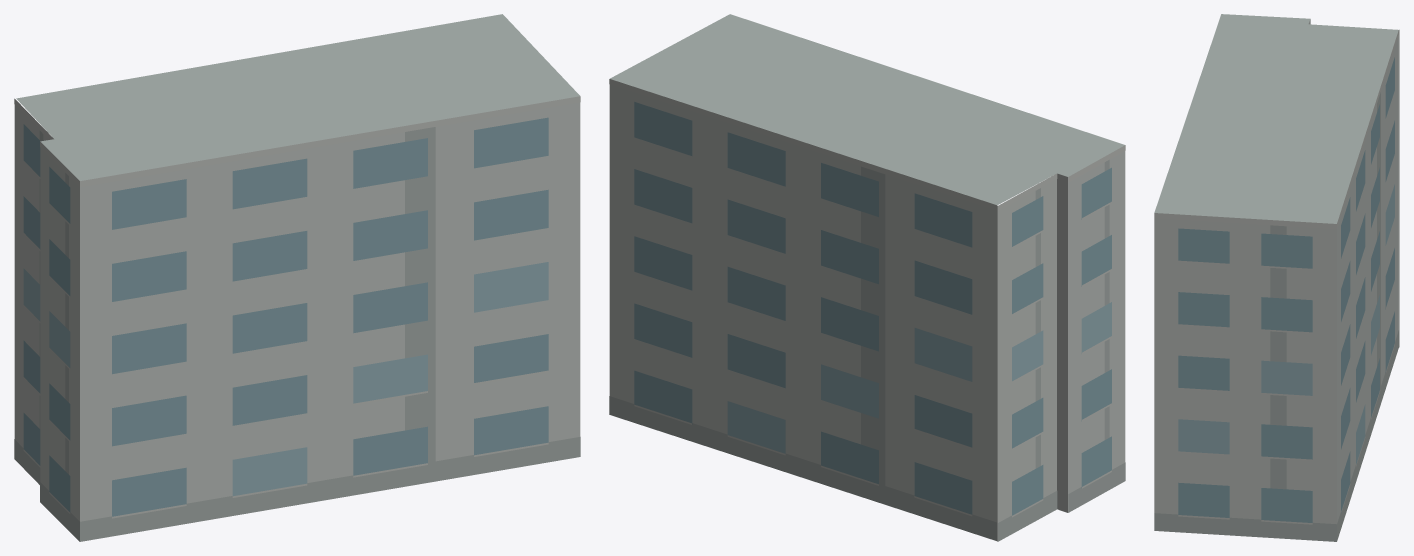
The model's file is survey-upis-32614490.glb.
3 renders of one model, left to right at view 1: azimuth 30°, elevation 25°; view 2: azimuth 150°, elevation 25°; view 3: azimuth 270°, elevation 25°, orthographic. The views are drawn at different scales.
Parts seen in each view (by area): view 1: survey-upis-32614490.tmp; view 2: survey-upis-32614490.tmp; view 3: survey-upis-32614490.tmp.
Part boxes in pixels (box(x1,y1,x2,y2)): survey-upis-32614490.tmp: box(14, 14, 580, 541); survey-upis-32614490.tmp: box(609, 14, 1125, 541); survey-upis-32614490.tmp: box(1154, 14, 1399, 541).
Bounding box in the file's own units: 20.55 × 14.5 × 10.15.
